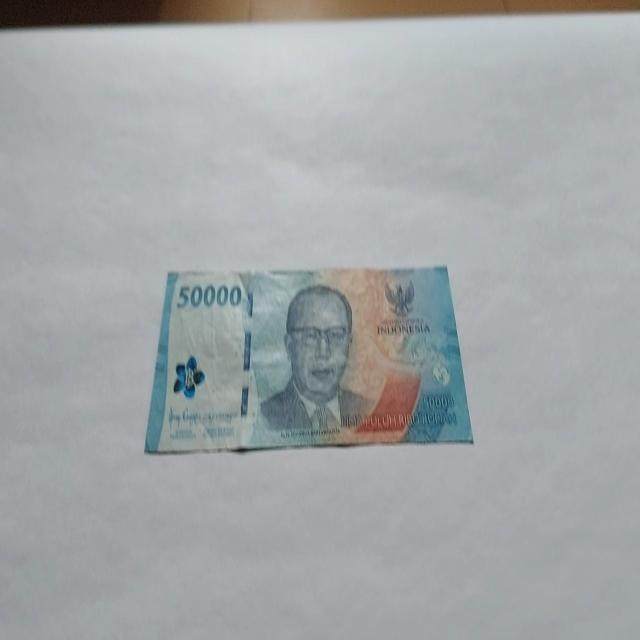lima puluh ribu rupiah: (144, 262, 474, 455), (258, 282, 371, 436)
